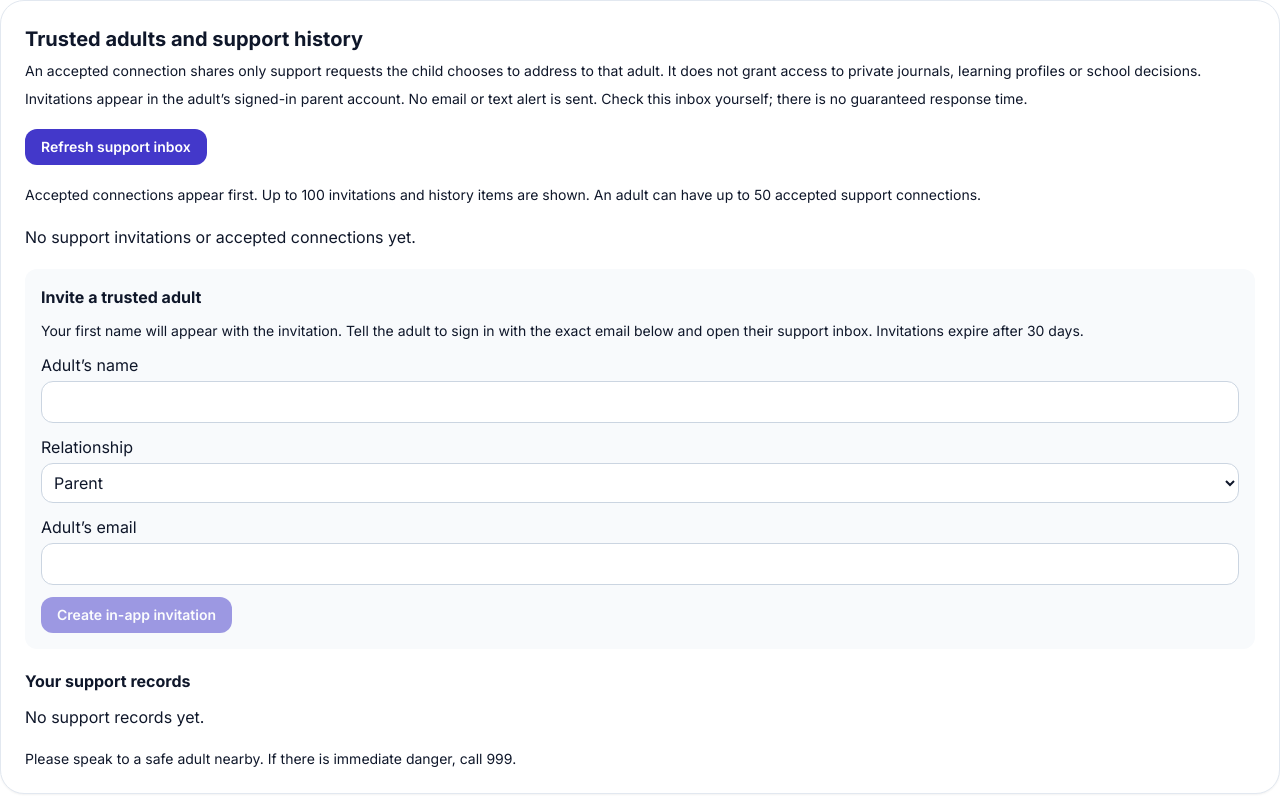
failed invitation makes no success claim and keeps entered fields for retry
The width and height of the screenshot is (1280, 800).
Expected: the text "No support invitations or accepted connections yet." is shown, [25, 227, 416, 247]
Type "Alex" into the field labelled "Adult’s name" at x=640, y=402, box [41, 381, 1239, 423]
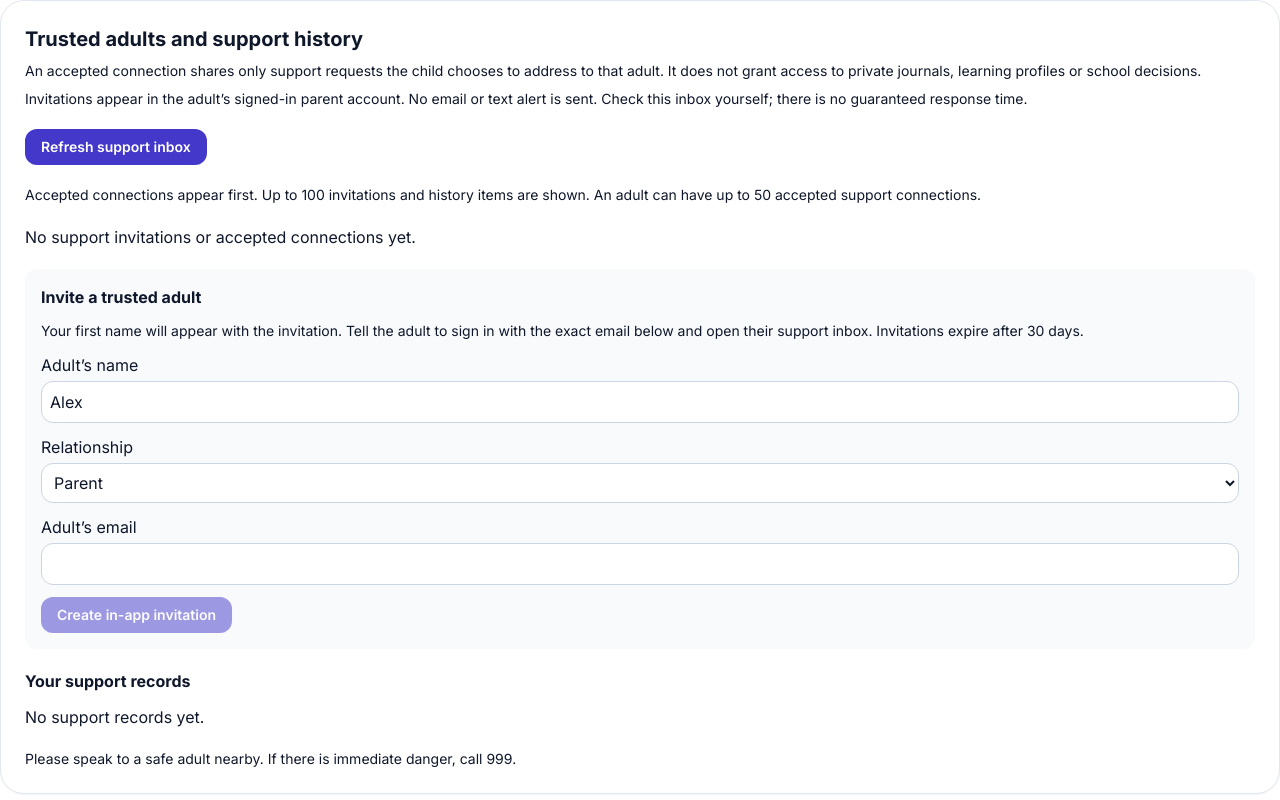
Type "alex@example.invalid" into the field labelled "Adult’s email" at x=640, y=564, box [41, 543, 1239, 585]
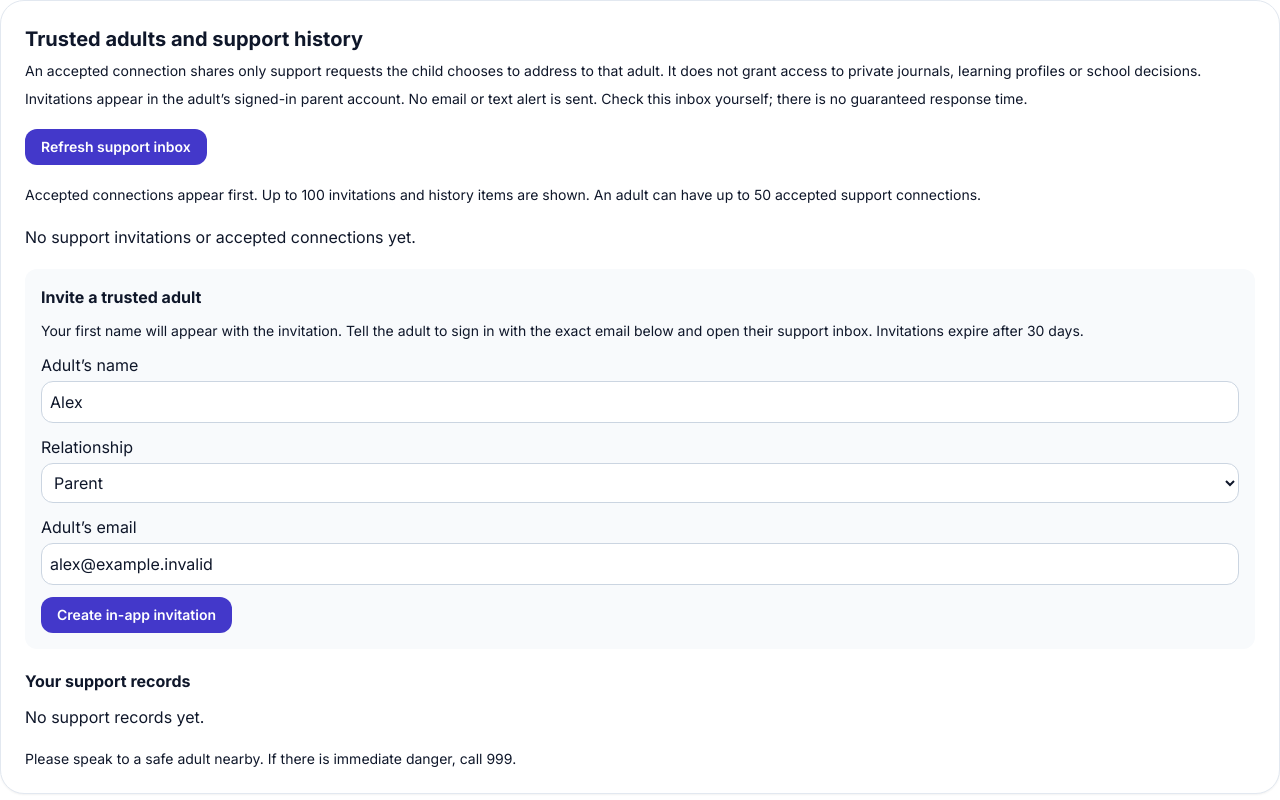
Click the button "Create in-app invitation" at x=136, y=615, box [41, 597, 232, 633]
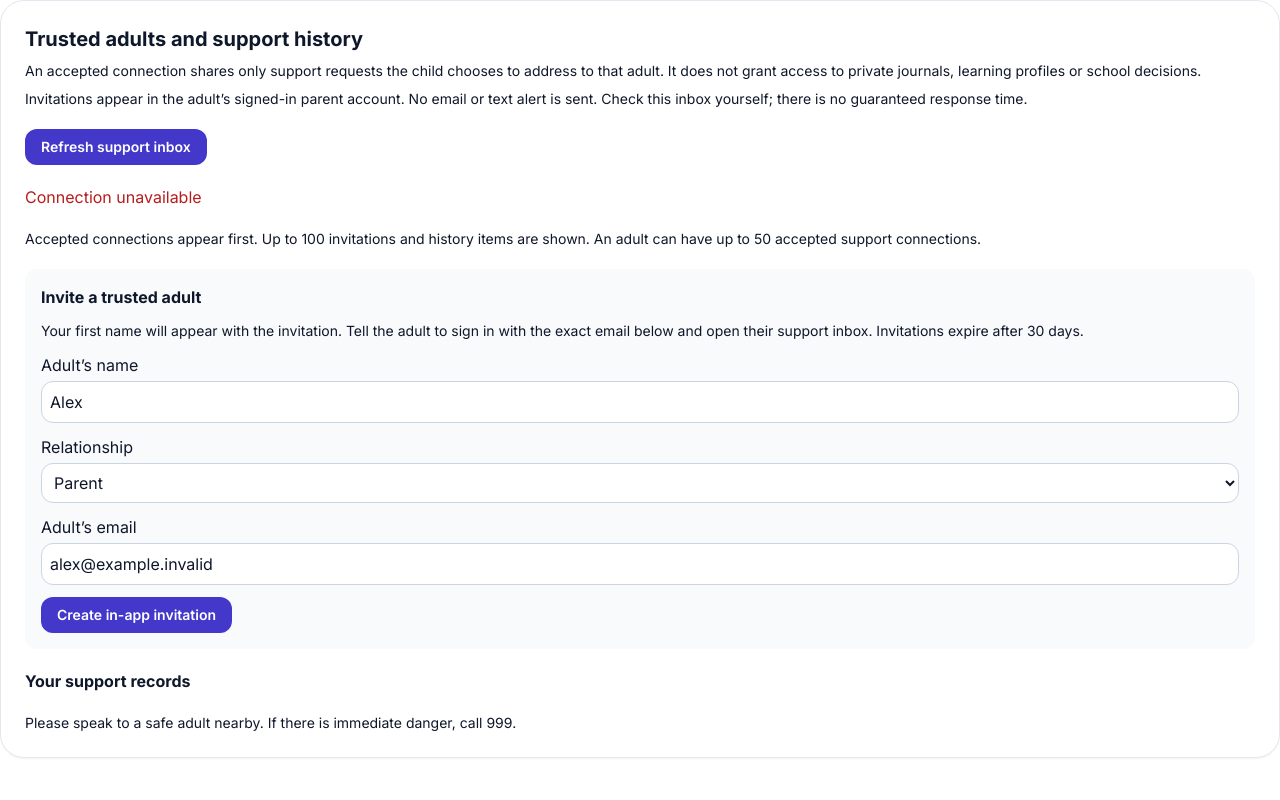
Result: the message reads "Connection unavailable" at [25, 187, 202, 207]
